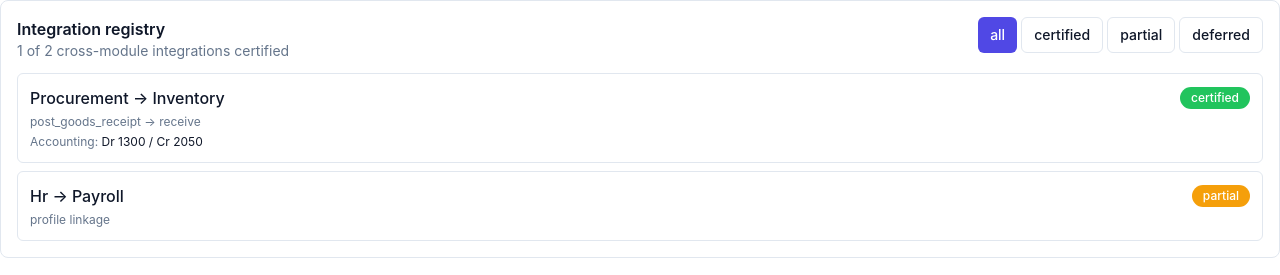
IntegrationRegistryPanel › renders all integrations and filters by status
Expected: the text "Procurement → Inventory" is shown, x1=30 y1=86 x2=225 y2=110
Expected: the text "Hr → Payroll" is shown, x1=30 y1=184 x2=124 y2=208
Note: filter to certified-only → the partial one disappears
Click the button "certified": [1062, 35] box x1=1021 y1=17 x2=1103 y2=53
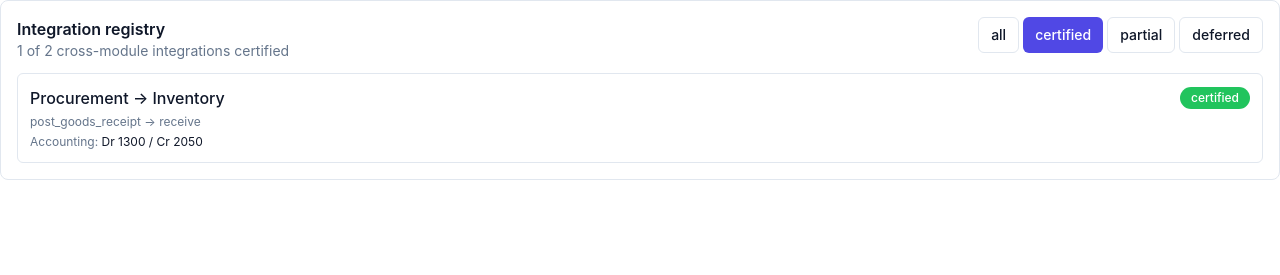
Expected: the text "Procurement → Inventory" is shown, x1=30 y1=86 x2=225 y2=110
Expected: the text "Hr → Payroll" is gone
